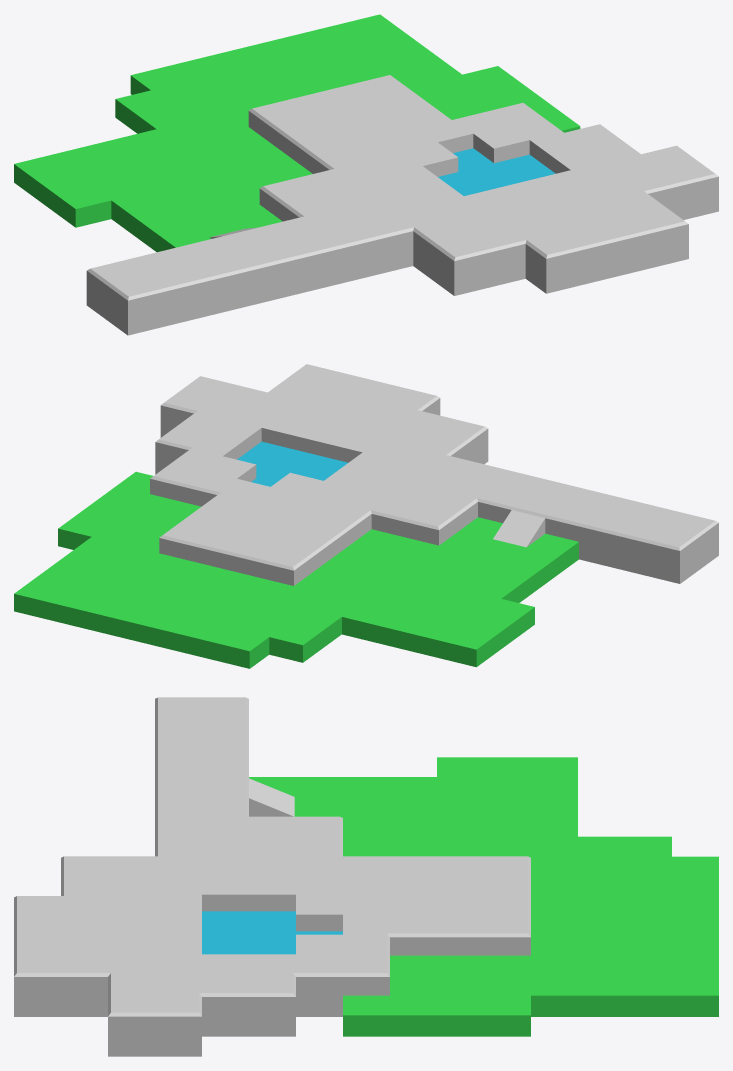
Rendered from terrain.glb.
3 renders of one model, top to bottom at view 1: azimuth 30°, elevation 25°; view 2: azimuth 150°, elevation 25°; view 3: azimuth 270°, elevation 25°, orthographic. The views are drawn at different scales.
Visible parts, largest first — view 1: Cube.154, Cube.077, Plane; view 2: Cube.154, Cube.077, Plane; view 3: Cube.154, Cube.077, Plane.
Boxes of the visible parts, x1,y1,x2,y2 form: Cube.154: [86, 75, 718, 335]; Cube.077: [14, 14, 580, 252]; Plane: [438, 148, 555, 195]; Cube.154: [150, 364, 718, 585]; Cube.077: [14, 471, 578, 668]; Plane: [237, 441, 347, 486]; Cube.154: [14, 697, 530, 1056]; Cube.077: [249, 757, 718, 1036]; Plane: [202, 911, 342, 954].
Size of the model in its own units: 16 by 1 by 15.
